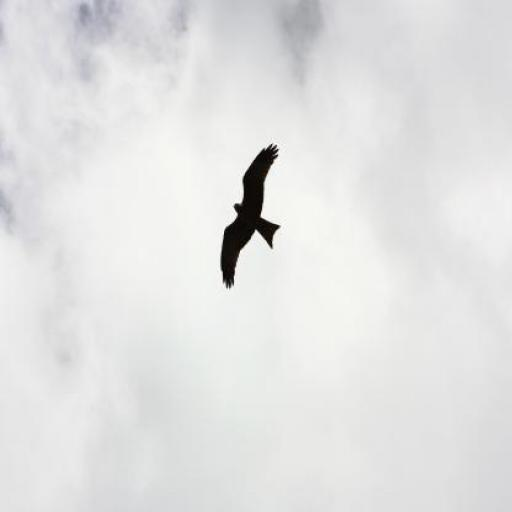bird: (219, 144, 281, 289)
